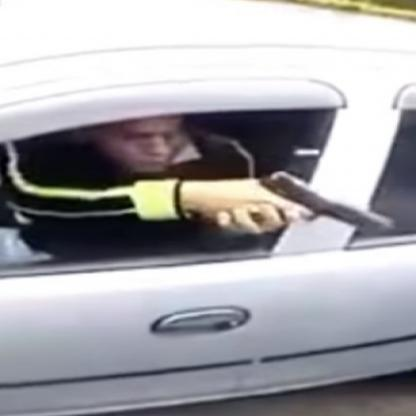criminal: (0, 113, 400, 264)
weapon: (249, 168, 399, 238)
